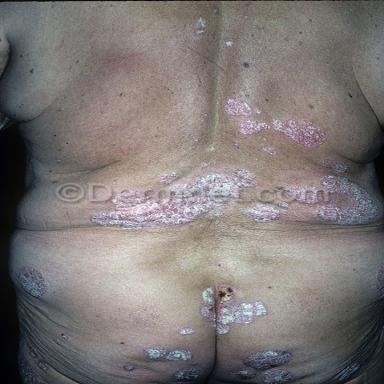Psoriasis: (89, 198, 227, 230), (200, 285, 267, 334), (315, 175, 380, 225), (172, 169, 256, 189), (272, 117, 325, 148), (244, 349, 291, 370), (18, 267, 46, 297), (143, 347, 193, 361), (246, 203, 280, 222), (335, 362, 362, 383), (224, 98, 252, 117), (237, 119, 269, 135), (259, 369, 293, 384), (19, 359, 39, 384), (320, 159, 348, 174), (174, 367, 200, 380), (157, 171, 179, 184), (236, 370, 256, 379), (259, 145, 277, 155), (37, 360, 50, 371), (179, 327, 195, 335), (277, 201, 289, 209)
